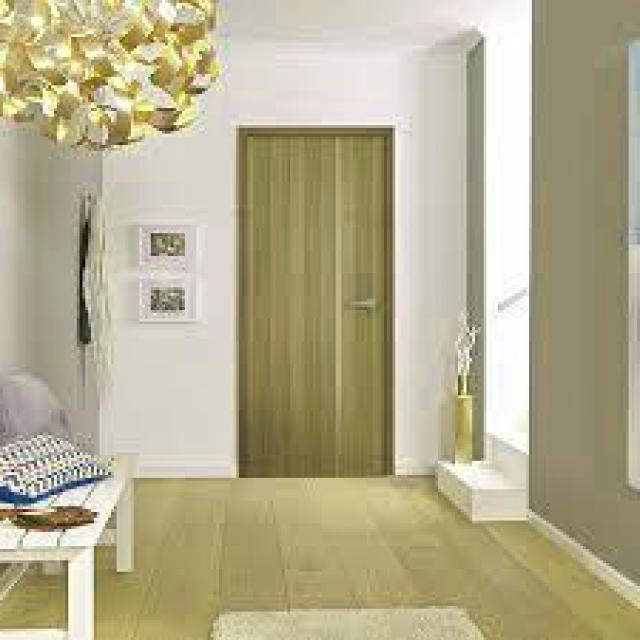door: (237, 124, 393, 477)
